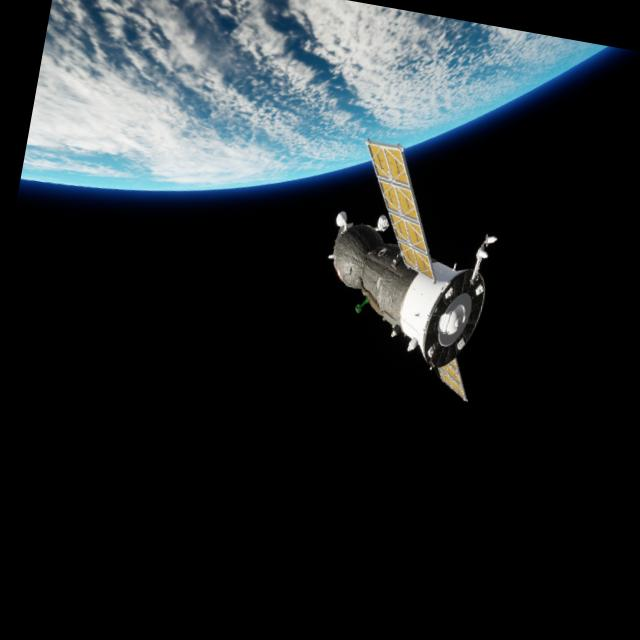Satellites revolving around earth: (306, 132, 514, 405)
